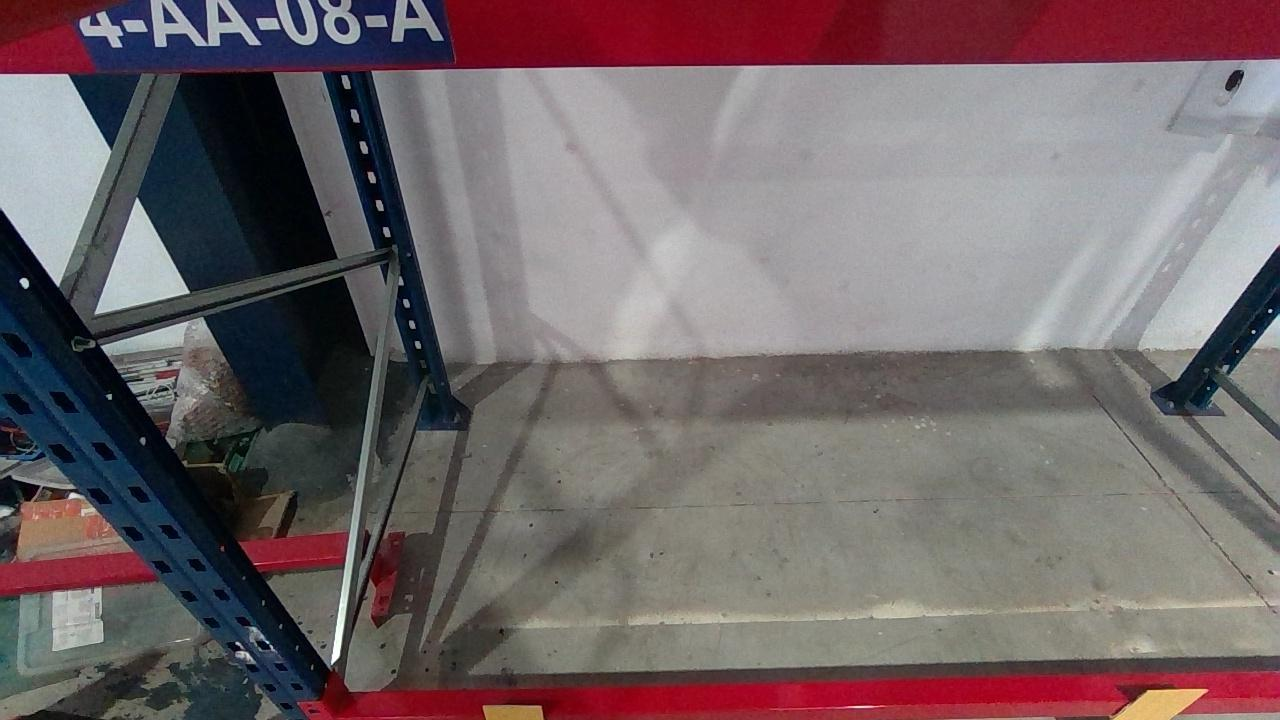h_rack: (59, 2, 1280, 74), (340, 667, 1280, 720)
orange_strip: (1108, 688, 1210, 719), (482, 704, 544, 719)
